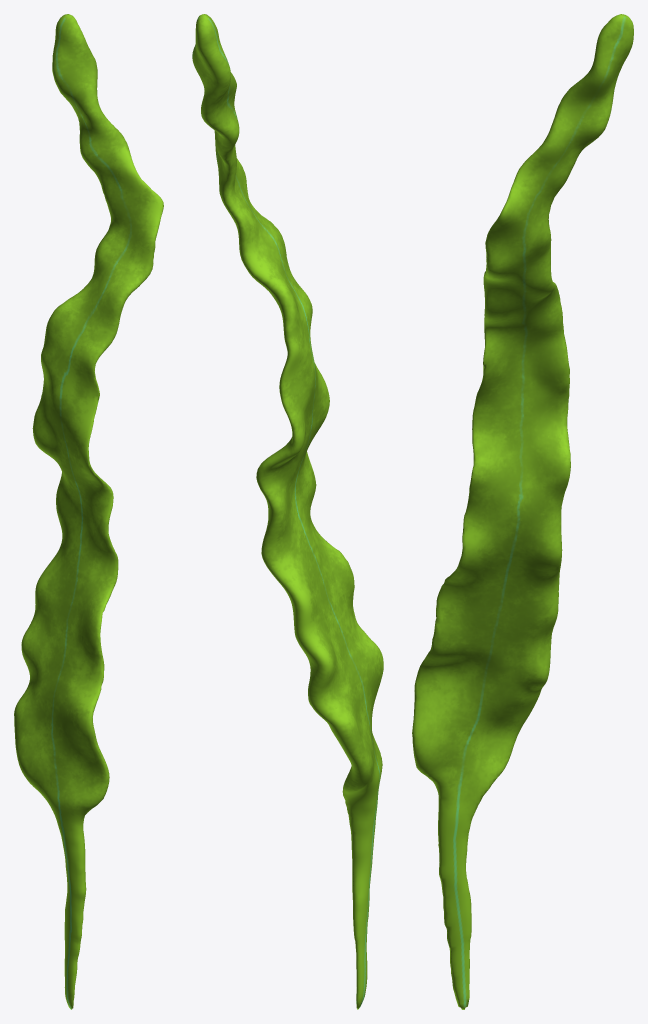
The model's file is alga.gltf.
The picture shows the model from 3 angles, left to right: view 1: azimuth 30°, elevation 25°; view 2: azimuth 150°, elevation 25°; view 3: azimuth 270°, elevation 25°; orthographic projection. The views are drawn at different scales.
Visible parts, largest first — view 1: ZBrush_defualt_group; view 2: ZBrush_defualt_group; view 3: ZBrush_defualt_group.
Part boxes in pixels (box(x1,y1,x2,y2)): ZBrush_defualt_group: box(14, 14, 163, 1009); ZBrush_defualt_group: box(192, 14, 383, 1009); ZBrush_defualt_group: box(412, 14, 633, 1009).
Size of the model in its own units: 0.4596 by 2.89 by 0.5632.
1 material, 1 textured.
